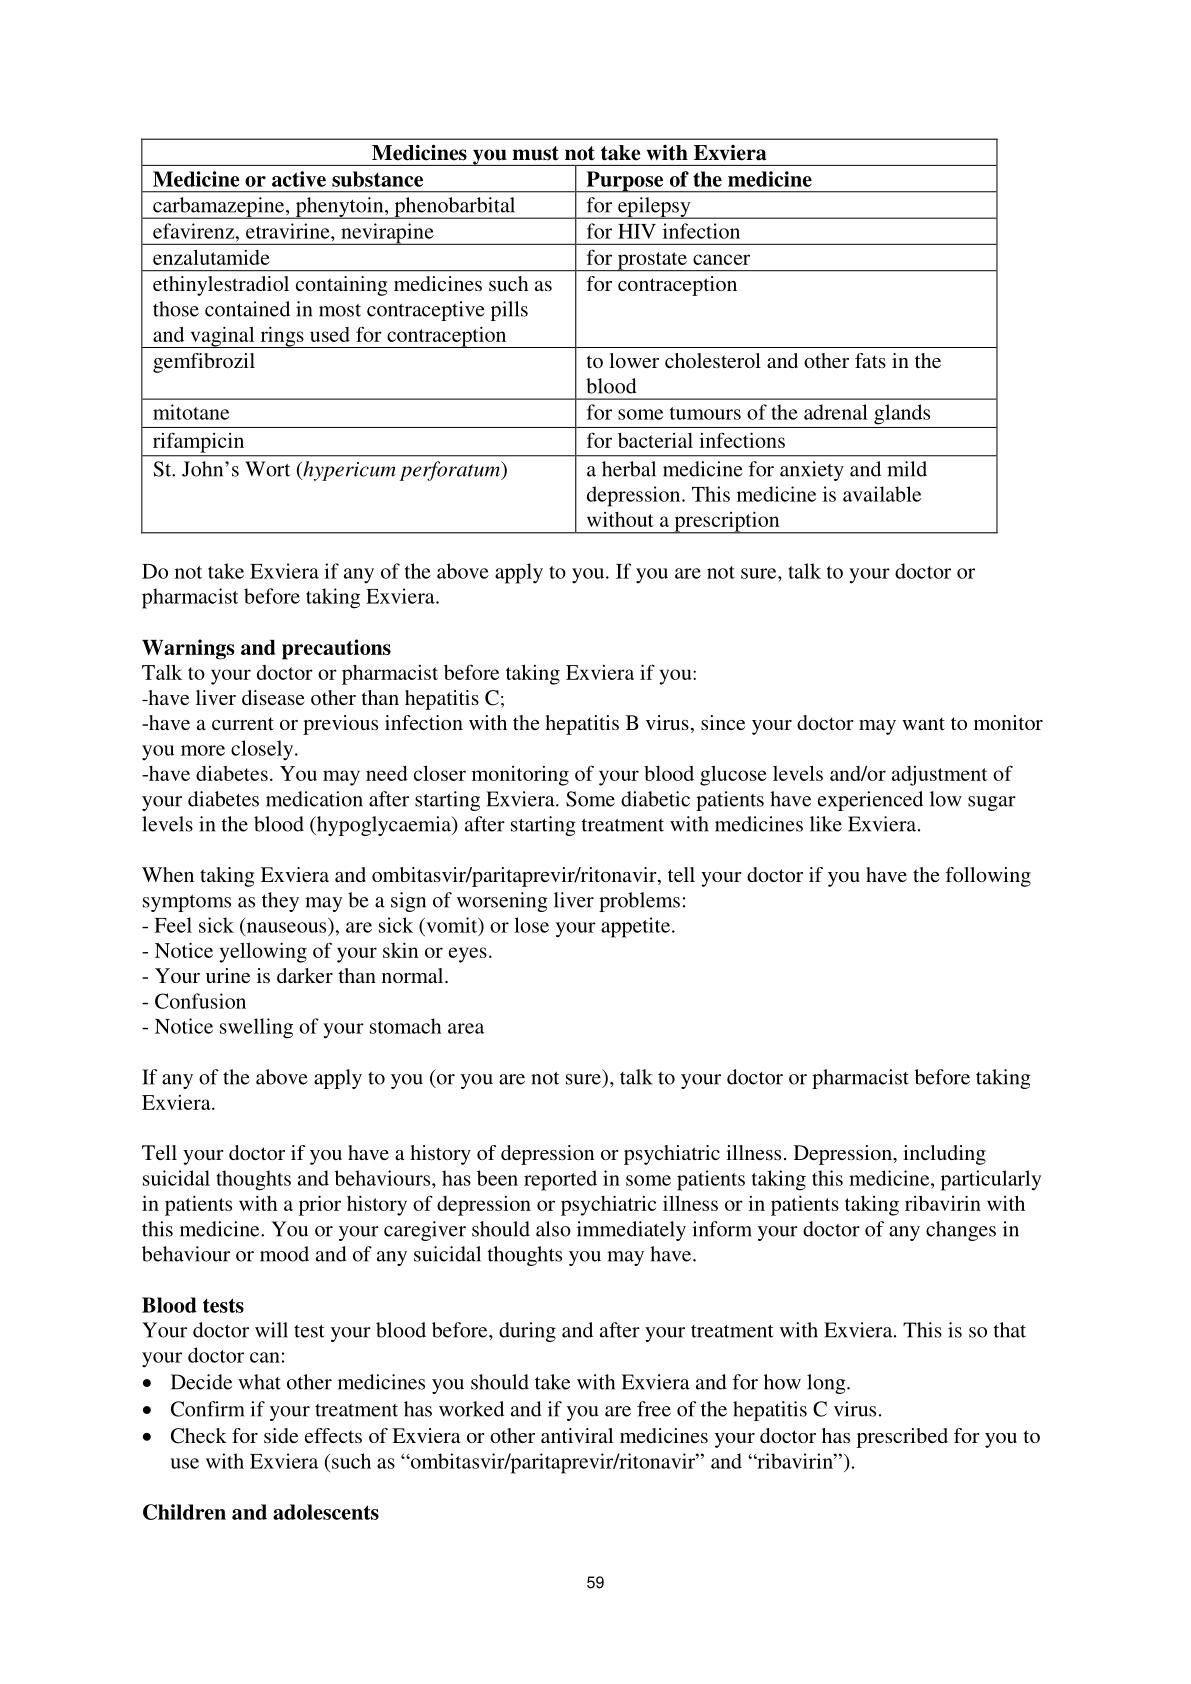merged_cells: (138, 135, 999, 535)
